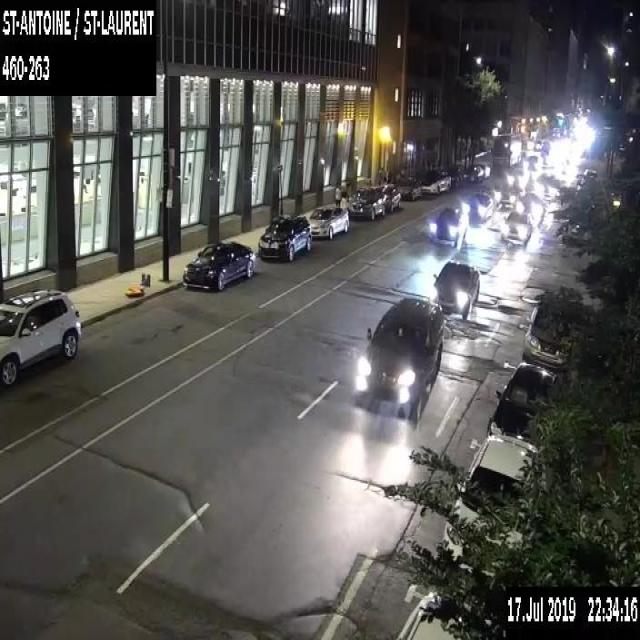bus: (491, 132, 522, 166)
construction: (122, 272, 150, 294)
pedestrian: (334, 180, 342, 204)
vehicle: (442, 432, 546, 576), (356, 295, 442, 413), (0, 285, 82, 388), (486, 360, 559, 439), (396, 588, 506, 639), (521, 305, 576, 374), (183, 240, 255, 290), (430, 259, 479, 319), (258, 212, 311, 261), (429, 206, 468, 246), (346, 185, 387, 220), (307, 206, 348, 239), (501, 208, 532, 242), (517, 190, 545, 219), (562, 217, 589, 245), (465, 192, 492, 220), (420, 169, 450, 194), (495, 182, 525, 205), (375, 184, 400, 211), (395, 176, 422, 200), (535, 170, 556, 195), (508, 165, 530, 185), (463, 163, 483, 181), (524, 154, 542, 171), (447, 166, 464, 184), (476, 160, 490, 180), (582, 168, 597, 181)
